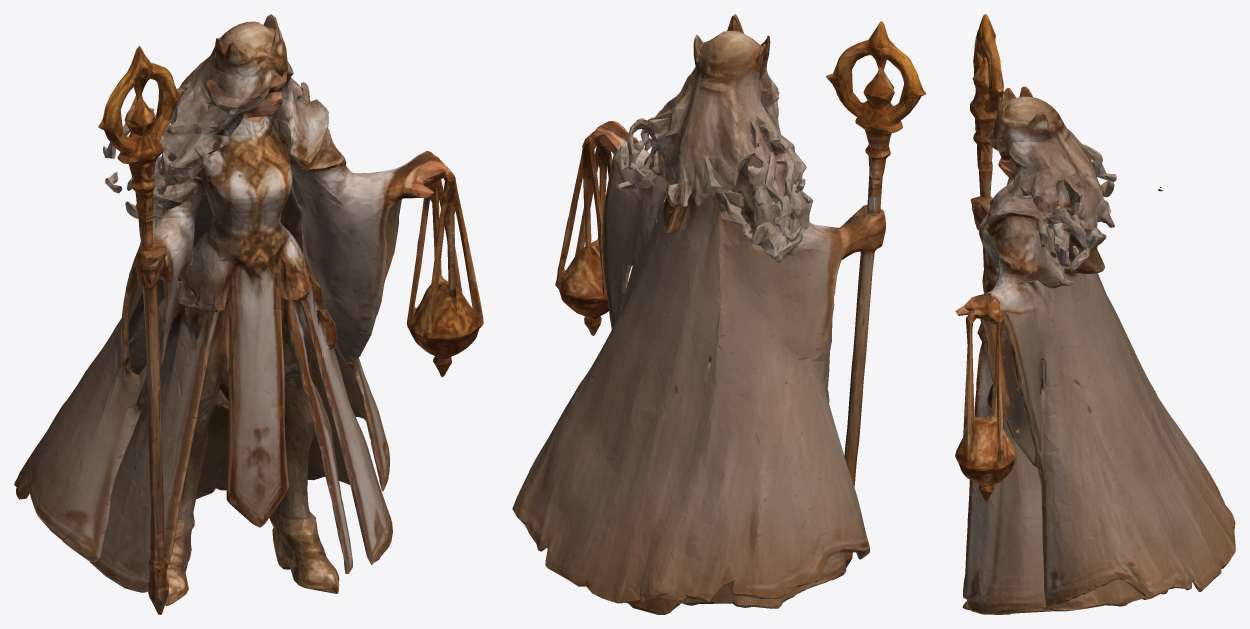
Rendered from Pretresse.glb.
3 renders of one model, left to right at view 1: azimuth 30°, elevation 25°; view 2: azimuth 150°, elevation 25°; view 3: azimuth 270°, elevation 25°, orthographic. The views are drawn at different scales.
Parts seen in each view (by area): view 1: geometry_0; view 2: geometry_0; view 3: geometry_0.
Part boxes in pixels (bbox=[...]): geometry_0: bbox=[14, 14, 483, 614]; geometry_0: bbox=[512, 14, 926, 614]; geometry_0: bbox=[955, 14, 1235, 614].
Size of the model in its own units: 0.6786 by 0.9991 by 0.4931.
Materials: 1 (1 with a texture image).
